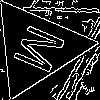M: (11, 22, 76, 80)
